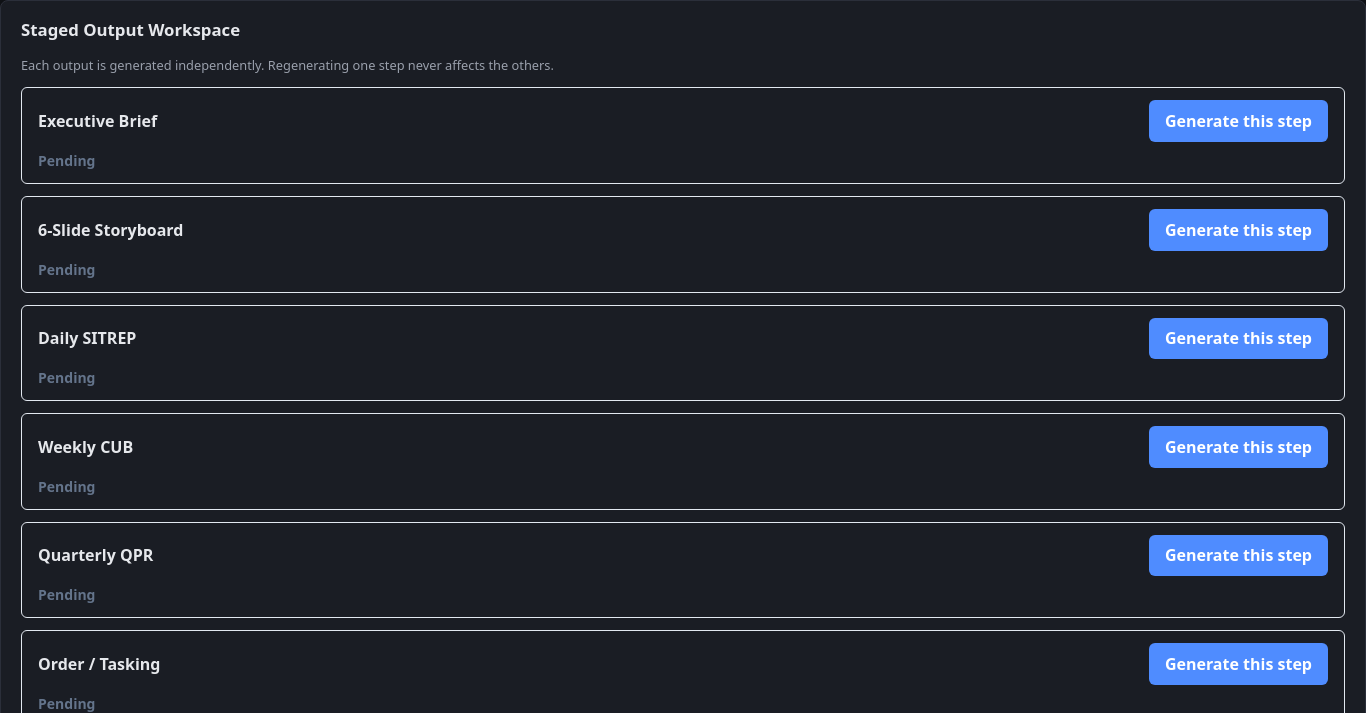
it: StagedOutputWorkspace › shows Failed for a failed step and leaves other steps untouched
Click the button with test id "regenerate-brief" at (1238, 121), box [1149,100,1328,142]
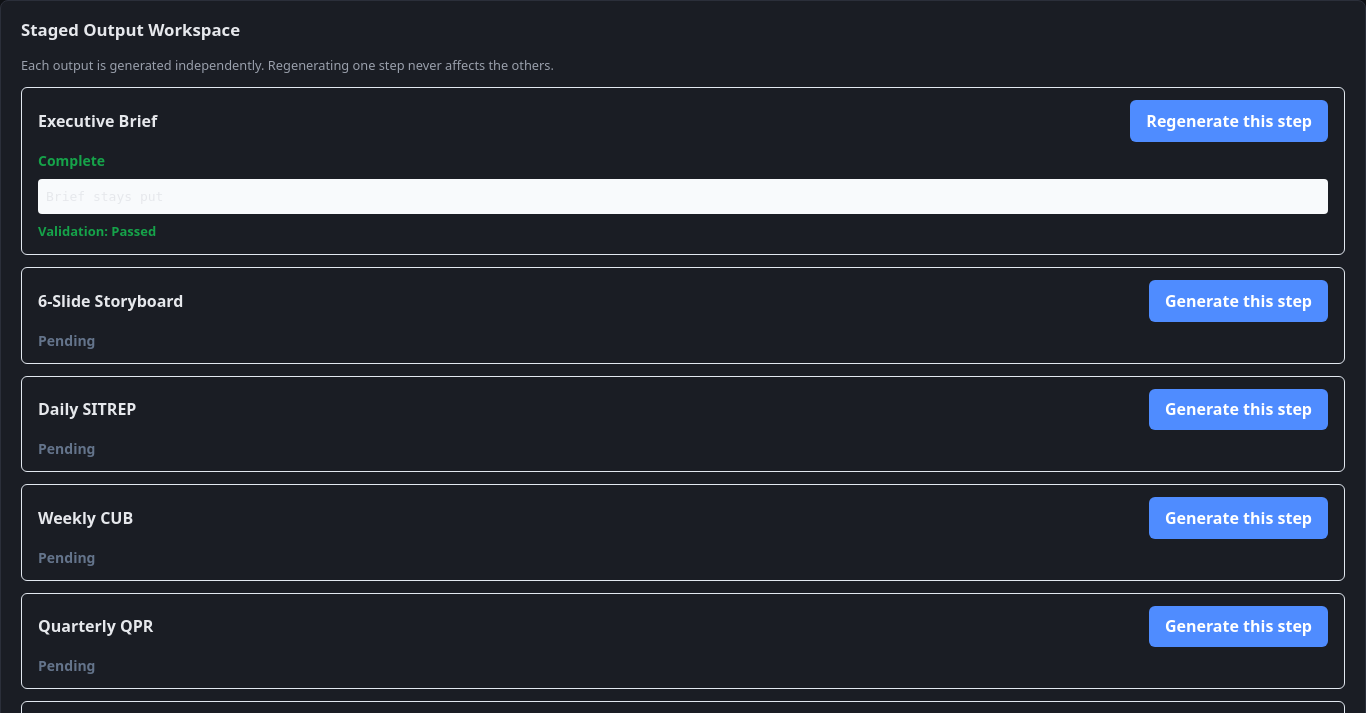
Check: the message with test id "status-brief" reads "Complete", box [38,151,105,170]
Click the button with test id "regenerate-storyboard" at (1238, 301), box [1149,280,1328,322]
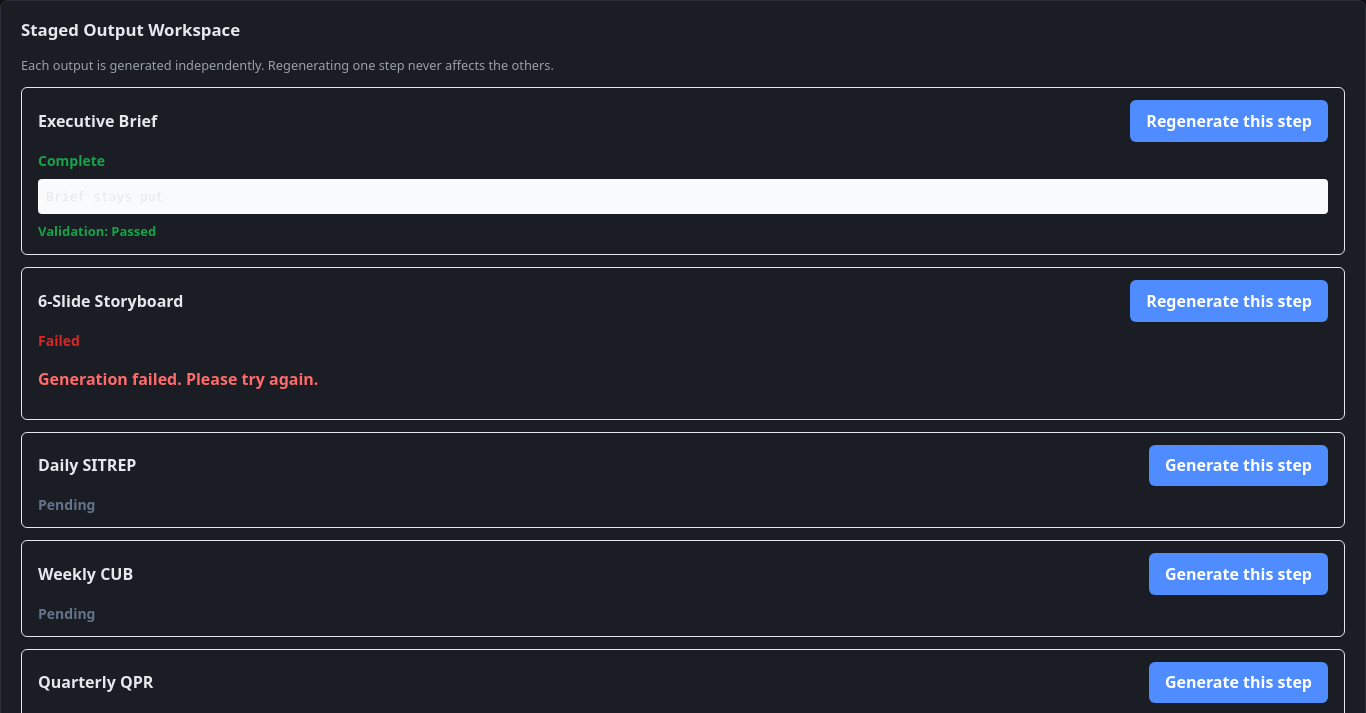
Check: the message with test id "status-brief" reads "Complete", box [38,151,105,170]
Check: the message with test id "status-storyboard" reads "Failed", box [38,330,80,350]
Check: the message "Generation failed. Please try again." is shown, box [38,368,318,390]
